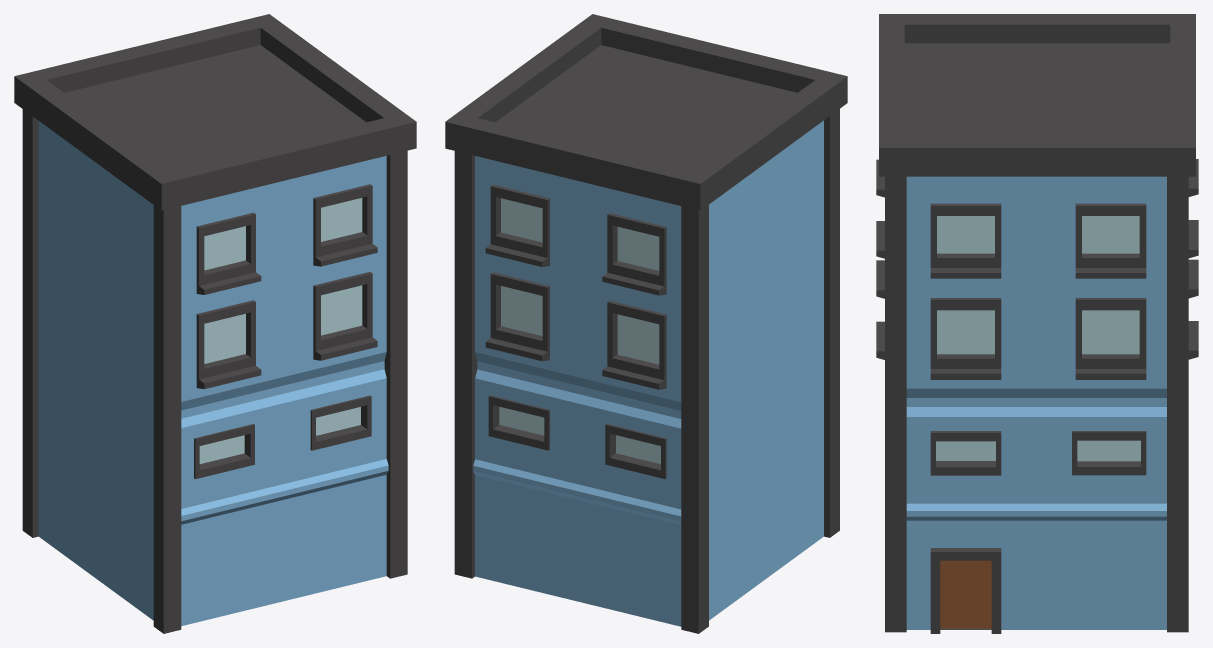
Rendered from house_tall.fbx.
The picture shows the model from 3 angles, left to right: view 1: azimuth 30°, elevation 25°; view 2: azimuth 150°, elevation 25°; view 3: azimuth 270°, elevation 25°; orthographic projection. The views are drawn at different scales.
Parts seen in each view (by area): view 1: Base.127; view 2: Base.127; view 3: Base.127.
Part boxes in pixels (<box>): Base.127: <box>14,14,416,633</box>; Base.127: <box>445,14,847,633</box>; Base.127: <box>876,14,1198,633</box>.
Size of the model in its own units: 882 by 1485 by 889.
